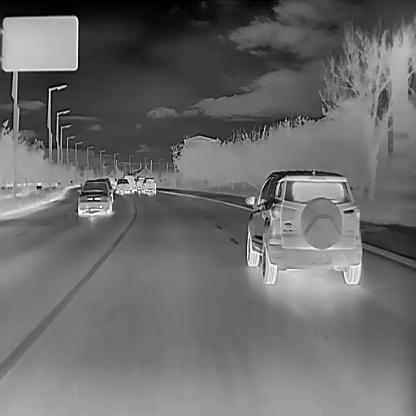car: (244, 167, 361, 284), (77, 180, 113, 215), (93, 177, 113, 202), (114, 178, 129, 193), (142, 177, 155, 194), (124, 174, 135, 191), (136, 176, 145, 189)
